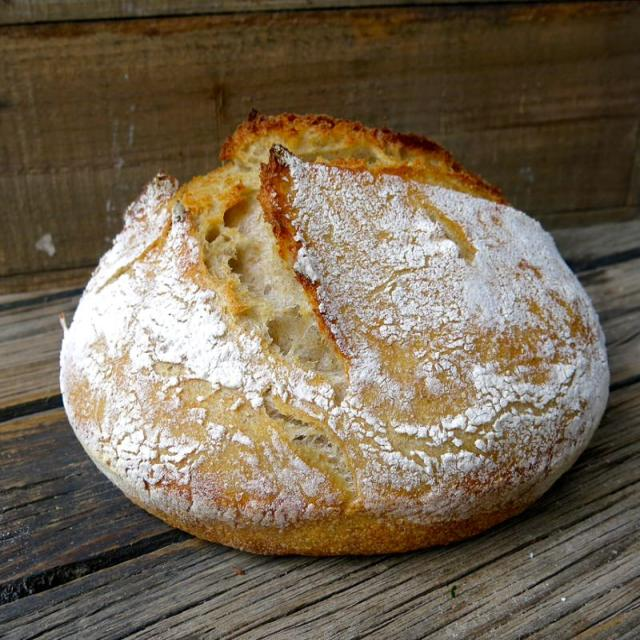Maltese-Bread: (60, 114, 608, 555)
